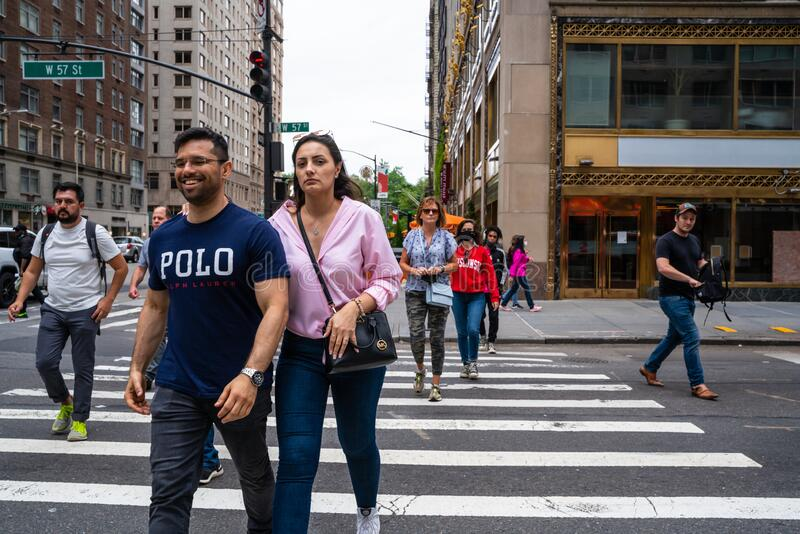person: (124, 126, 286, 534), (262, 132, 400, 534), (9, 182, 128, 442), (637, 200, 727, 401), (399, 196, 459, 403), (451, 218, 498, 380), (130, 205, 179, 301), (500, 234, 544, 313), (482, 224, 504, 358), (9, 220, 36, 319)
